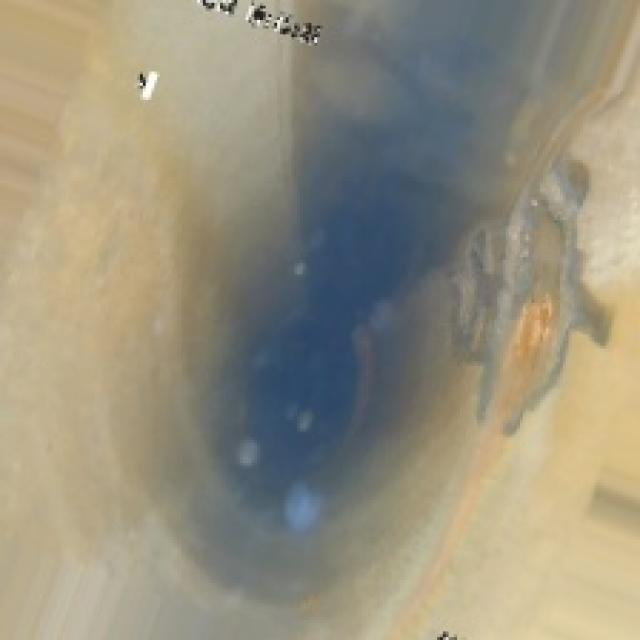pipe_surface_damage: (440, 154, 617, 437)
